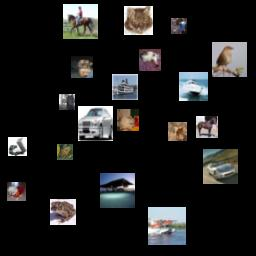airplane: (148, 207, 186, 245), (100, 173, 135, 208)
automobile: (203, 149, 238, 184), (78, 106, 113, 141)
bird: (212, 42, 247, 77), (171, 18, 187, 34)
cat: (124, 6, 153, 35), (139, 49, 161, 71)
dog: (117, 109, 139, 131), (71, 56, 93, 78), (168, 122, 187, 141), (7, 182, 26, 201)
frog: (50, 199, 76, 225), (57, 144, 73, 160)
ship: (179, 72, 208, 101), (112, 74, 138, 100)
truck: (8, 137, 27, 156)
